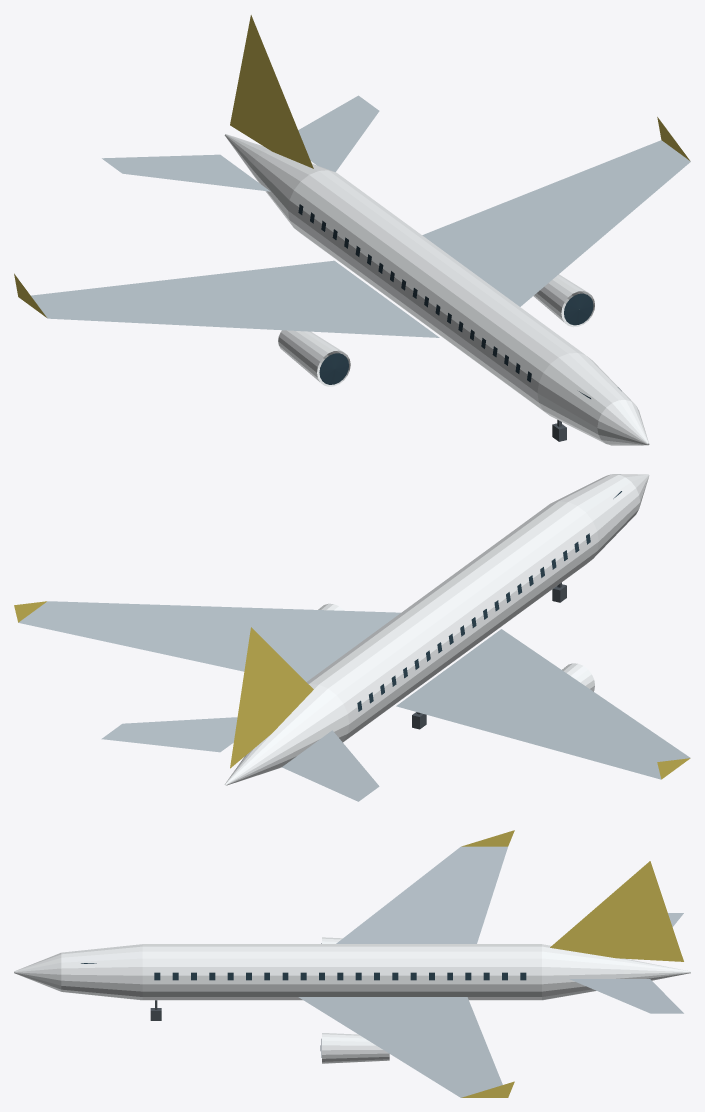
Rendered from b777-PGT.gltf.
3 views of the same model, one above another, from view 1: azimuth 30°, elevation 25°; view 2: azimuth 150°, elevation 25°; view 3: azimuth 270°, elevation 25° (orthographic). The views are drawn at different scales.
Visible parts, largest first — view 1: object 1; view 2: object 1; view 3: object 1.
Boxes of the visible parts, x1,y1,x2,y2 form: object 1: (14,15,690,445); object 1: (14,474,690,801); object 1: (14,830,690,1097).
Bounding box in the file's own units: 65 × 19.16 × 74.
